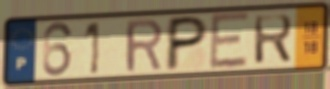1: (82, 20, 102, 76)
6: (41, 20, 74, 79)
E: (208, 11, 252, 73)
P: (162, 14, 211, 74)
R: (123, 17, 165, 75), (252, 12, 295, 66)
